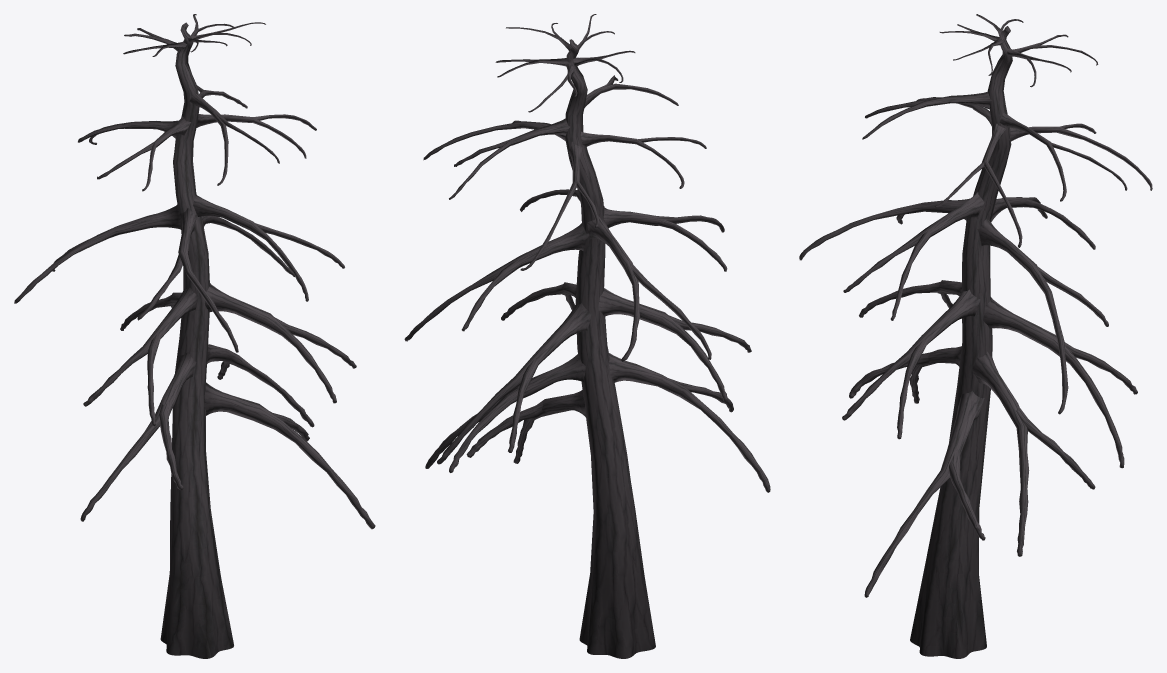
The model's file is dead-tree-cd4edbpsgm-transformed.glb.
The picture shows the model from 3 angles, left to right: view 1: azimuth 30°, elevation 25°; view 2: azimuth 150°, elevation 25°; view 3: azimuth 270°, elevation 25°; orthographic projection. The views are drawn at different scales.
Parts seen in each view (by area): view 1: DeadTree_5; view 2: DeadTree_5; view 3: DeadTree_5.
Part boxes in pixels (x1=…): DeadTree_5: x1=14, y1=14, x2=375, y2=658; DeadTree_5: x1=404, y1=14, x2=770, y2=658; DeadTree_5: x1=799, y1=14, x2=1152, y2=658.
Bounding box in the file's own units: 8.36 × 16.44 × 8.41.
1 material, 1 textured.
